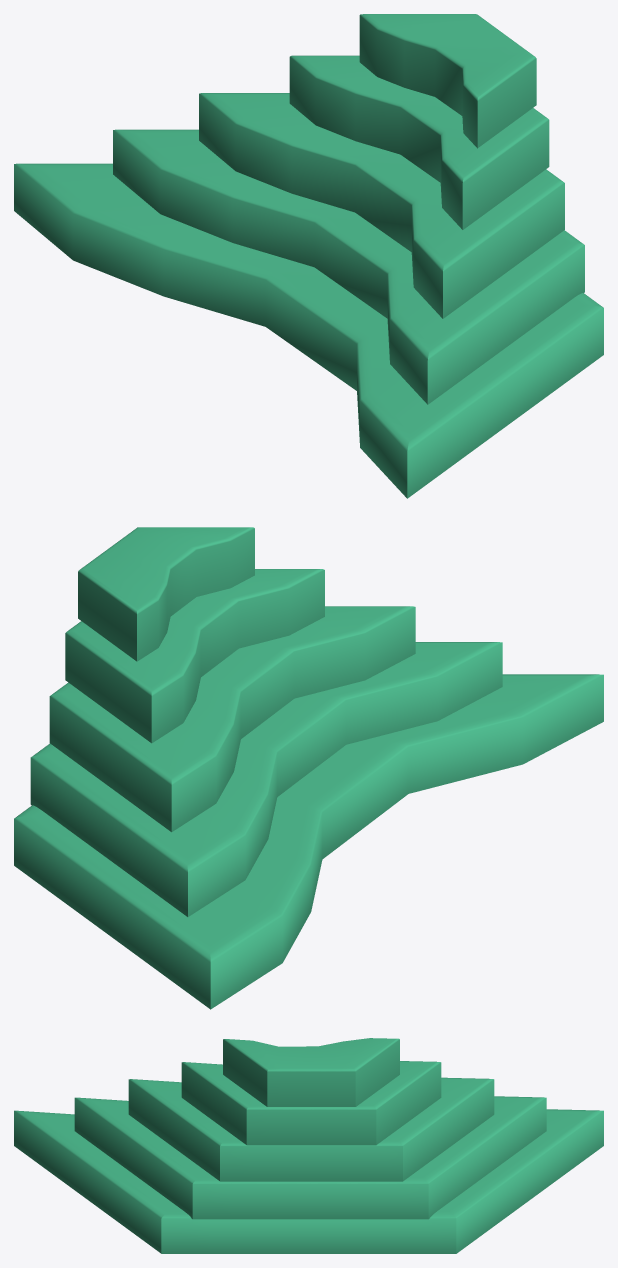
Rendered from stair_single.fbx.
3 renders of one model, top to bottom at view 1: azimuth 30°, elevation 25°; view 2: azimuth 150°, elevation 25°; view 3: azimuth 270°, elevation 25°, orthographic. The views are drawn at different scales.
Visible parts, largest first — view 1: hex_forest_waterC_empty; view 2: hex_forest_waterC_empty; view 3: hex_forest_waterC_empty.
Part boxes in pixels (x1=…): hex_forest_waterC_empty: x1=14, y1=14, x2=603, y2=498; hex_forest_waterC_empty: x1=14, y1=527, x2=603, y2=1009; hex_forest_waterC_empty: x1=14, y1=1038, x2=603, y2=1253.
Bounding box in the file's own units: 103 × 79.89 × 231.
